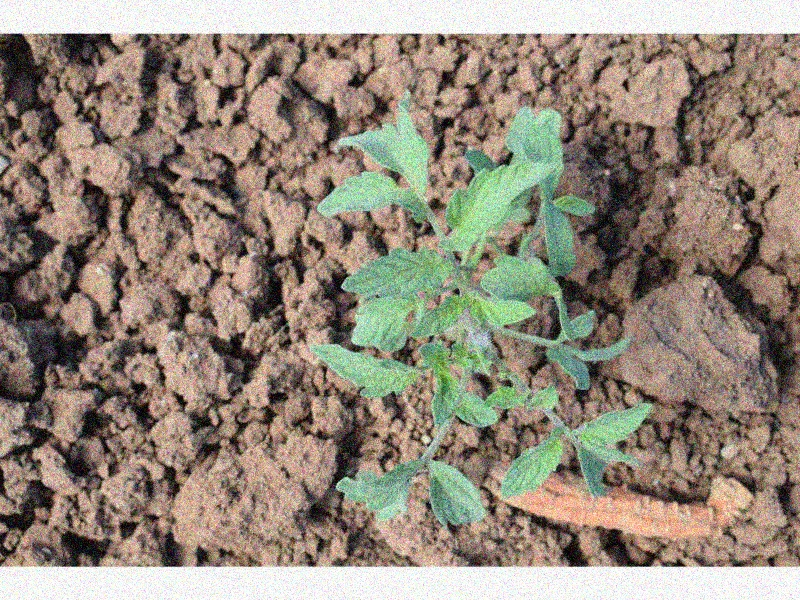tomato: (308, 102, 651, 531)
